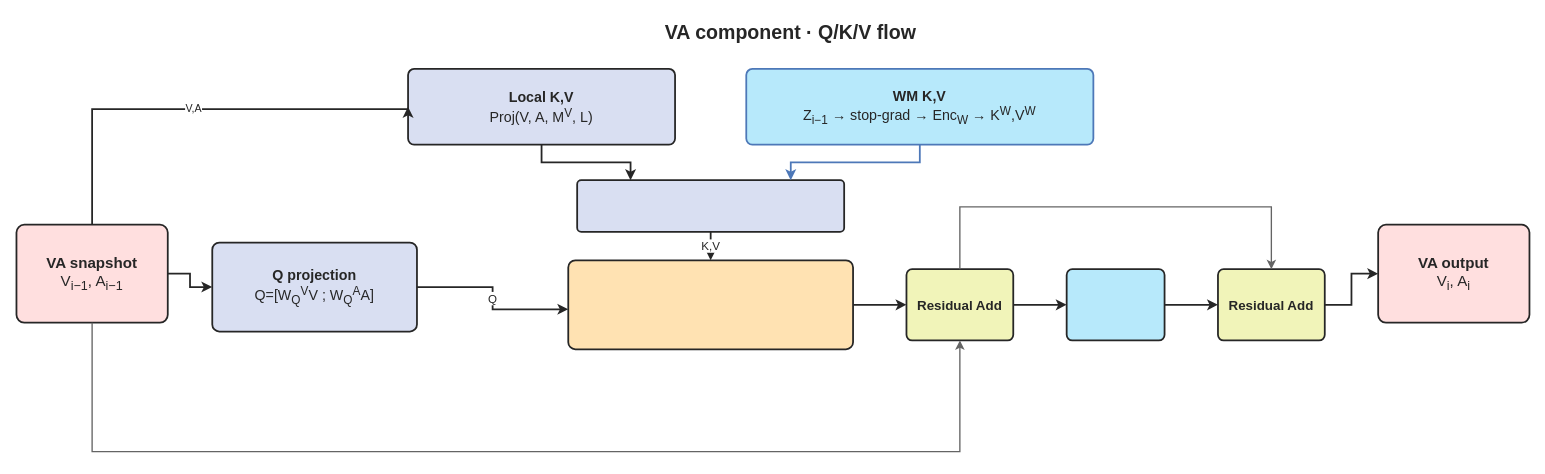
The diagram is 1545 pixels wide and 474 high, and some of its shapes have lost their labels. Here are the shapes that lost their labels. From the top down, the centre of each, then its label:
(710,205): K,V = concat(local, WM)
(710,304): Pre-Norm · Shared Attention softmax(QK T /√d k )V
(1115,304): Pre-Norm FFN
